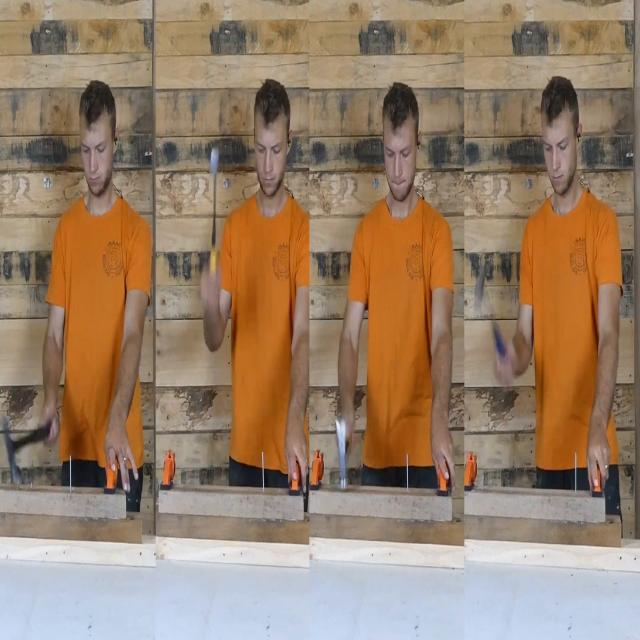hammer: (0, 401, 58, 487), (208, 144, 222, 274)
